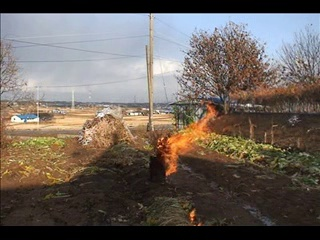fire: (184, 102, 219, 148), (156, 123, 185, 177), (184, 203, 206, 225)
